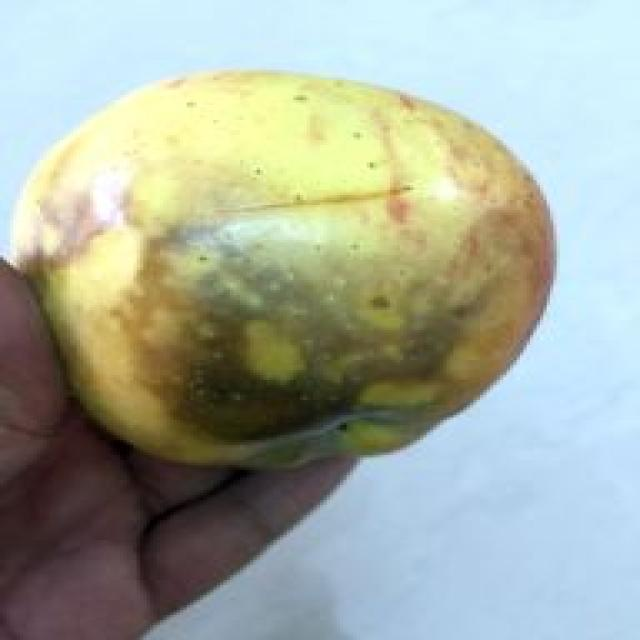Bad_Apple: (13, 72, 552, 467)
